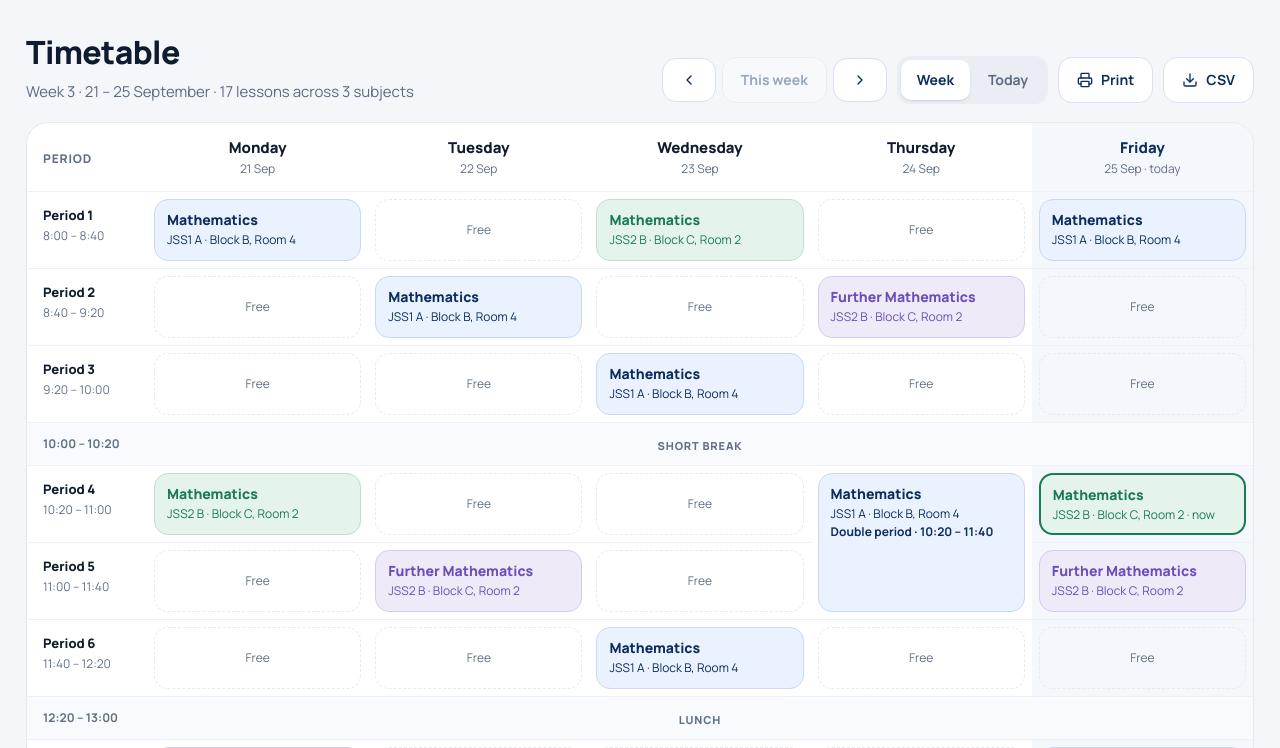
Test: Timetable, week 3 › opens the lesson sheet from a cell
Click the button with aria-label "Mathematics · JSS1 A, Thursday 10:20 – 11:40" at (921, 542), box [818,473,1025,612]
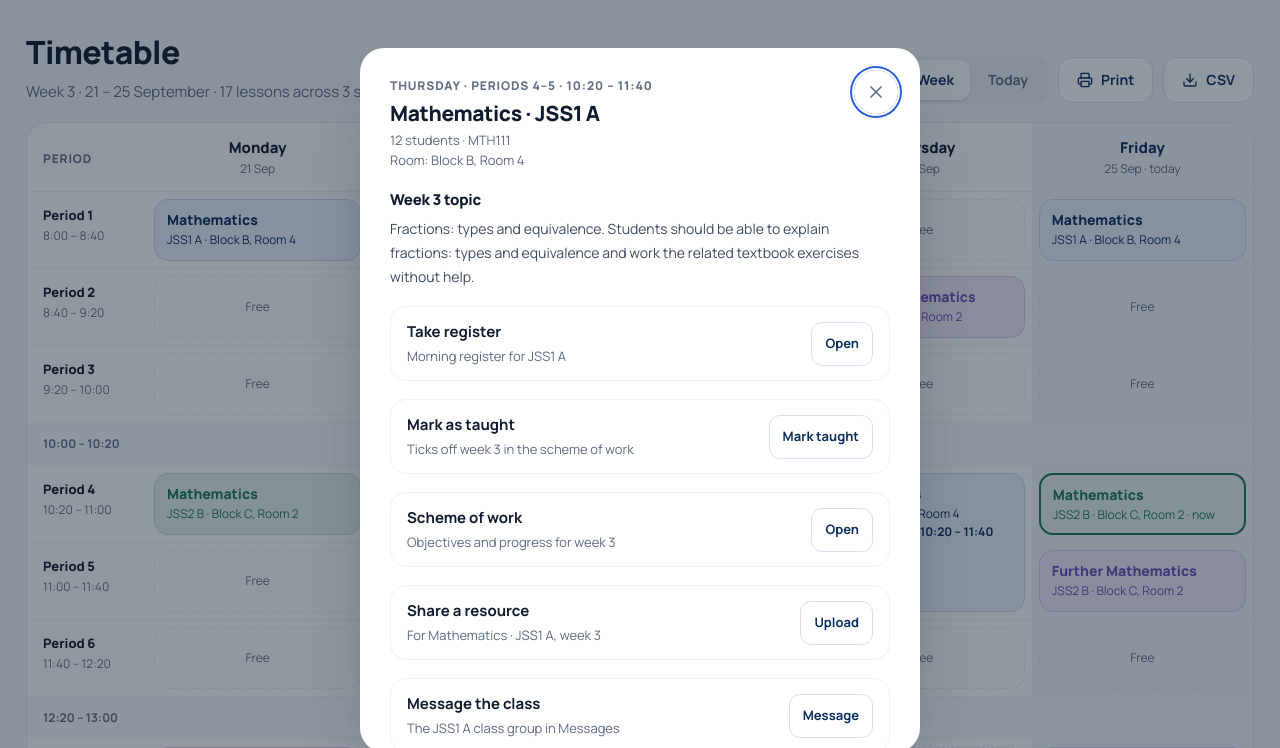
Now the text "Thursday · Periods 4–5 · 10:20 – 11:40" is shown, box [390,78,653,94]
Now the text "12 students · MTH111Room: Block B, Room 4" is shown, box [390,131,524,169]
